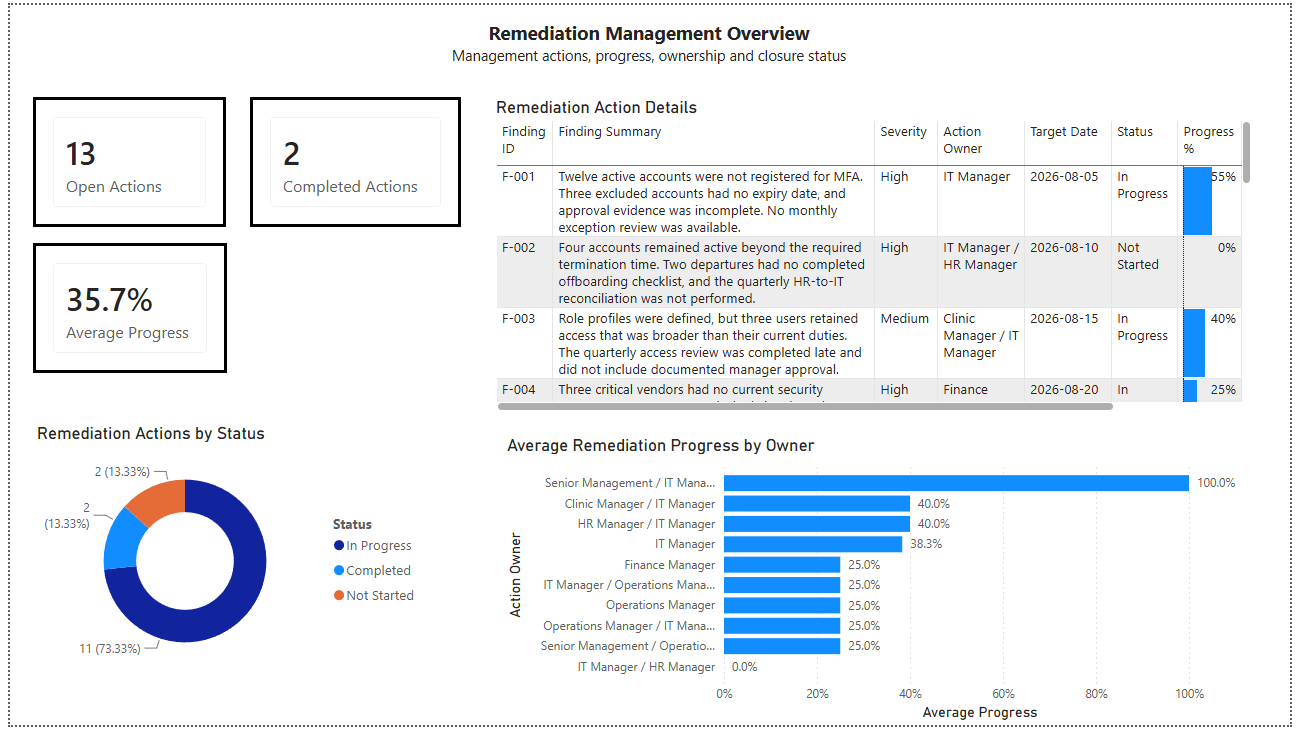

The page's visual inventory and layout, read from the dashboard file:
{"tool":"powerbi","page":{"name":"Remediation Management","canvas":[1280,720],"ordinal":1},"visuals":[{"type":"textbox","box":[419.2,9.7,439.6,62.2],"z":0},{"type":"cardVisual","fields":{"Data":["Remediation.Open Actions"]},"box":[23.3,92.4,192.6,129.4],"z":1000},{"type":"cardVisual","fields":{"Data":["Remediation.Completed Actions"]},"box":[240.2,92.4,211.1,129.4],"z":2000},{"type":"cardVisual","fields":{"Data":["Remediation.Average Progress"]},"box":[23.3,238.3,193.6,129.4],"z":3000},{"type":"donutChart","title":"Remediation Actions by Status","fields":{"Category":["Remediation.Status"],"Y":["CountNonNull(Remediation.Finding ID)"]},"box":[22.4,418.2,396.8,256.8],"z":4000},{"type":"clusteredBarChart","title":"Average Remediation Progress by Owner","fields":{"Category":["Remediation.Action Owner"],"Y":["Remediation.Average Progress"]},"box":[492.2,429.9,753.8,289.8],"z":5000},{"type":"tableEx","title":"Remediation Action Details","fields":{"Values":["Remediation.Finding ID","Remediation.Finding Summary","Remediation.Severity","Remediation.Action Owner","Remediation.Target Date","Remediation.Status","Remediation.Progress %","Remediation.Evidence Status","Remediation.Final Disposition"]},"box":[481.5,92.4,764.5,319],"z":6000}]}

Visuals, with their boxes in screenshot pixels (x1, y1, x2, y2), scaled from the page's 1280x720 canvas onto the 1297x731 screenshot:
textbox: (x1=425, y1=10, x2=870, y2=73)
cardVisual - Remediation.Open Actions: (x1=24, y1=94, x2=219, y2=225)
cardVisual - Remediation.Completed Actions: (x1=243, y1=94, x2=457, y2=225)
cardVisual - Remediation.Average Progress: (x1=24, y1=242, x2=220, y2=373)
"Remediation Actions by Status" donutChart: (x1=23, y1=425, x2=425, y2=685)
"Average Remediation Progress by Owner" clusteredBarChart: (x1=499, y1=436, x2=1263, y2=730)
"Remediation Action Details" tableEx: (x1=488, y1=94, x2=1263, y2=418)
